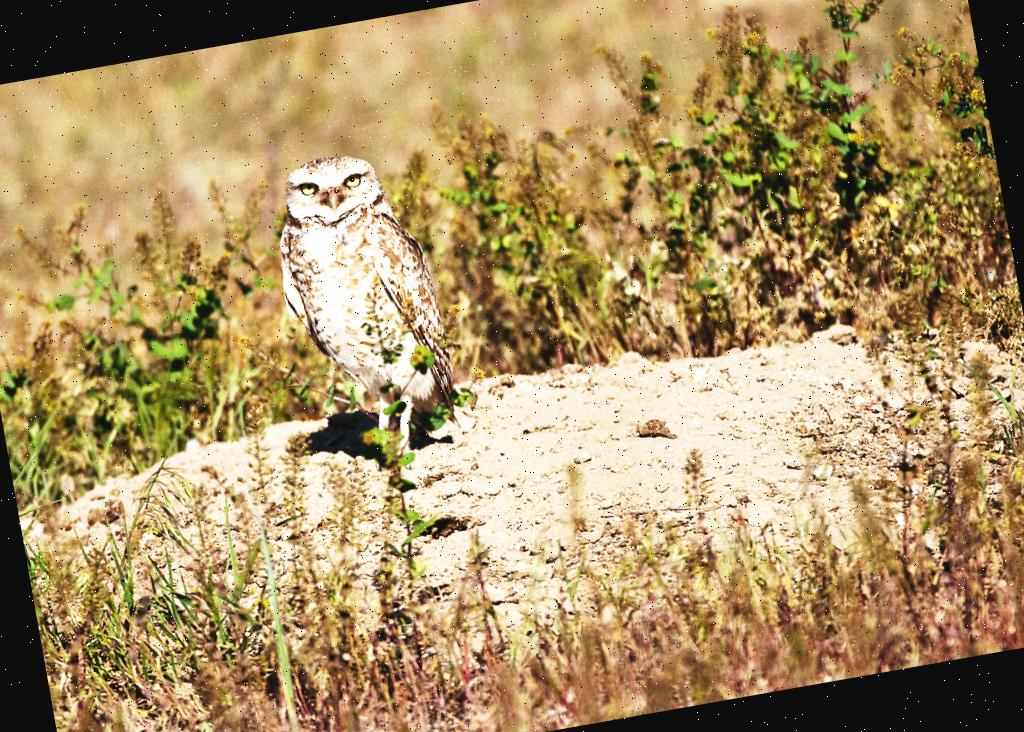Owl: (262, 140, 470, 476)
